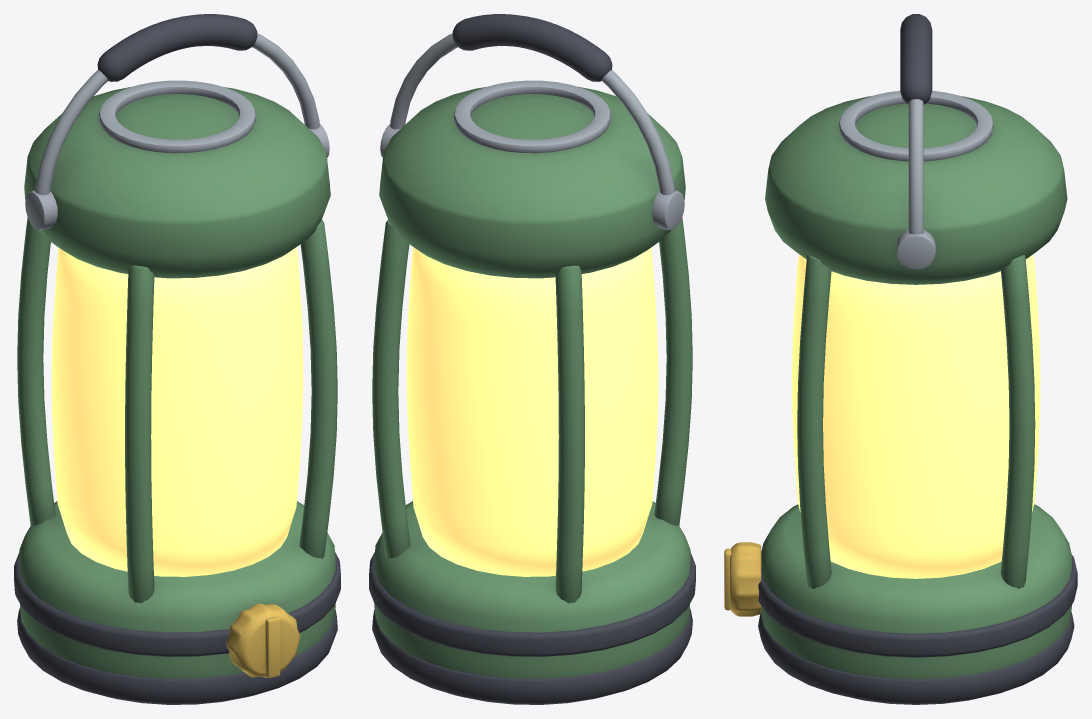
File: camping-lantern.glb
The picture shows the model from 3 angles, left to right: view 1: azimuth 30°, elevation 25°; view 2: azimuth 150°, elevation 25°; view 3: azimuth 270°, elevation 25°; orthographic projection.
Visible parts, largest first — view 1: camping-lantern_body, camping-lantern_glow; view 2: camping-lantern_body, camping-lantern_glow; view 3: camping-lantern_body, camping-lantern_glow.
Part boxes in pixels (<box>): camping-lantern_body: <box>14,14,340,704</box>; camping-lantern_glow: <box>51,247,303,576</box>; camping-lantern_body: <box>369,14,695,704</box>; camping-lantern_glow: <box>406,247,658,576</box>; camping-lantern_body: <box>724,14,1077,704</box>; camping-lantern_glow: <box>792,254,1040,578</box>.
Bounding box in the file's own units: 0.139 × 0.2906 × 0.1506.
Materials: 2 (1 with a texture image).
